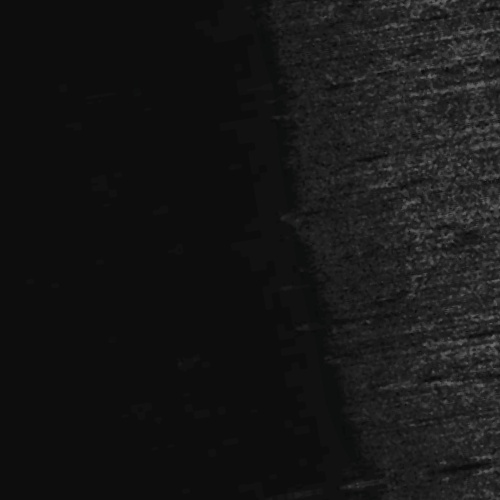object: (312, 495, 375, 500)
shadow: (344, 495, 445, 500)
